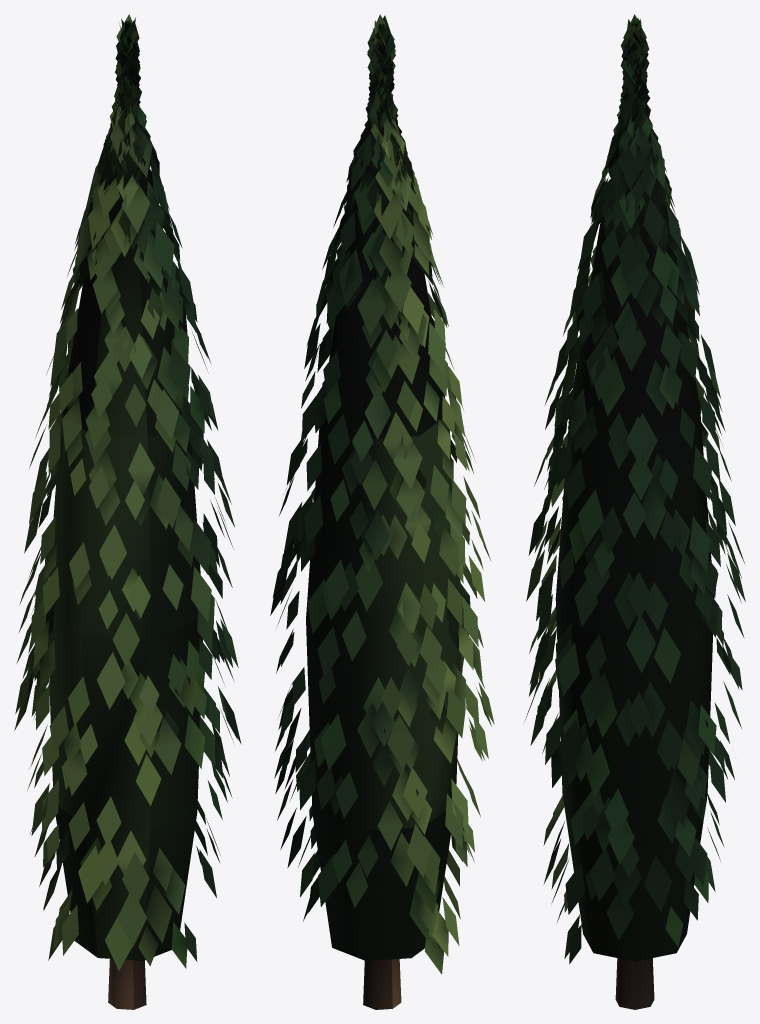
The model's file is cipres_alto.glb.
3 renders of one model, left to right at view 1: azimuth 30°, elevation 25°; view 2: azimuth 150°, elevation 25°; view 3: azimuth 270°, elevation 25°, orthographic.
Parts seen in each view (by area): view 1: cipres_alto_vegetacion, cipres_alto_piezas; view 2: cipres_alto_vegetacion, cipres_alto_piezas; view 3: cipres_alto_vegetacion, cipres_alto_piezas.
Boxes of the visible parts, <box> form: cipres_alto_vegetacion: <box>14,14,241,970</box>; cipres_alto_piezas: <box>48,21,202,1009</box>; cipres_alto_vegetacion: <box>270,14,494,974</box>; cipres_alto_piezas: <box>306,23,460,1009</box>; cipres_alto_vegetacion: <box>524,14,745,964</box>; cipres_alto_piezas: <box>555,22,714,1009</box>.
Bounding box in the file's own units: 1.47 × 7.1 × 1.46.
